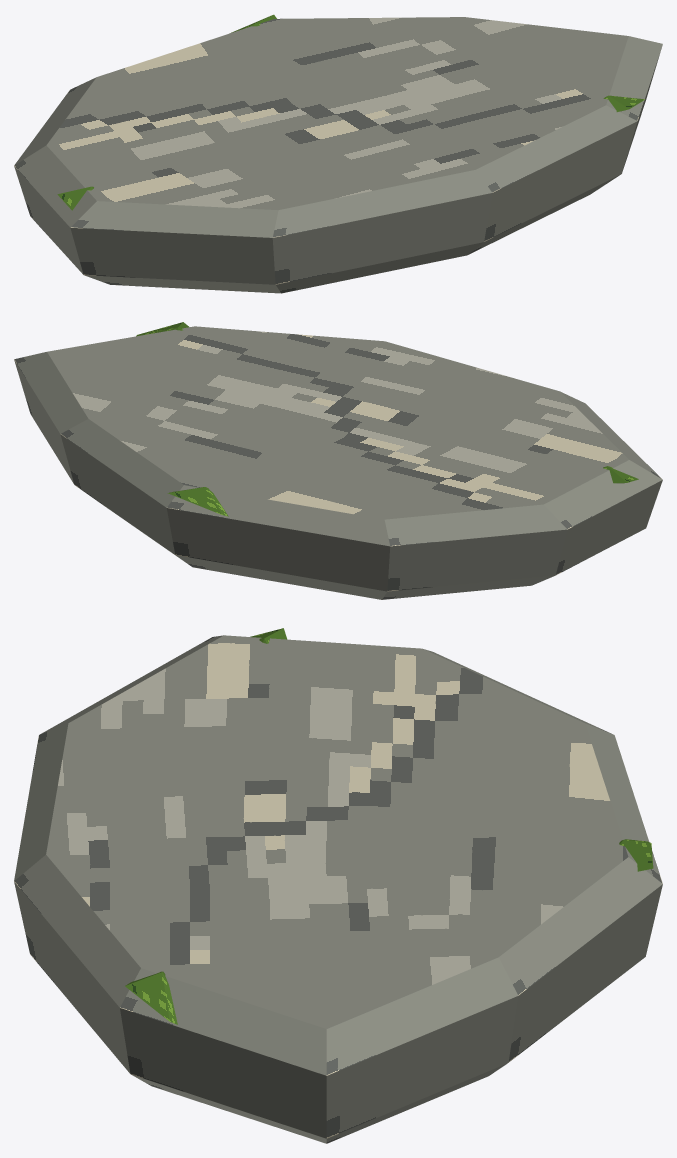
File: stepping_stone.glb
3 views of the same model, one above another, from view 1: azimuth 30°, elevation 25°; view 2: azimuth 150°, elevation 25°; view 3: azimuth 270°, elevation 25° (orthographic). The views are drawn at different scales.
Visible parts, largest first — view 1: stepping_stone; view 2: stepping_stone; view 3: stepping_stone.
Boxes of the visible parts, left/top/right/bottom form: stepping_stone: left=14, top=14, right=662, bottom=293; stepping_stone: left=14, top=322, right=662, bottom=599; stepping_stone: left=14, top=628, right=662, bottom=1143.
Bounding box in the file's own units: 8 × 1.1 × 5.
Materials: 1 (1 with a texture image).
